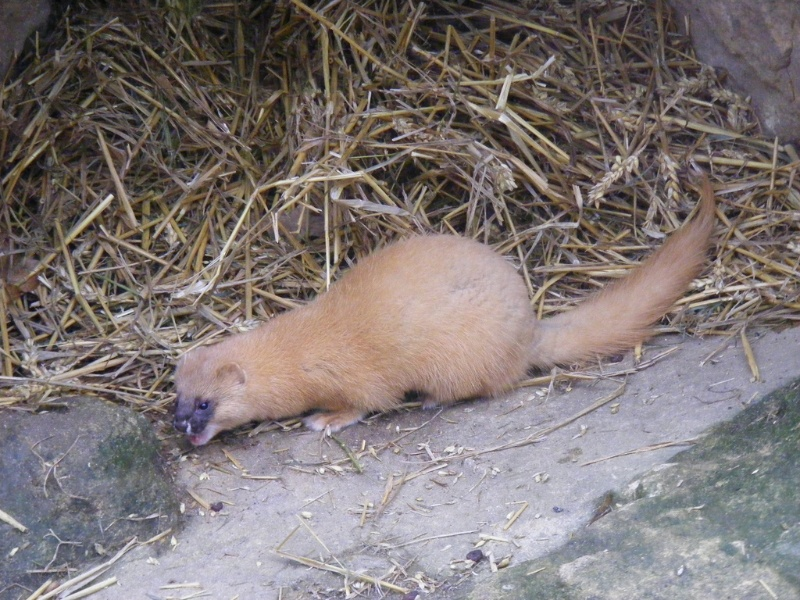minkish: (168, 175, 727, 448)
